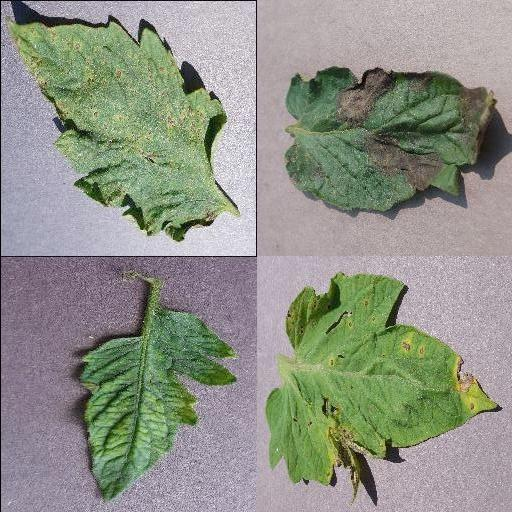Late Blight: (279, 64, 497, 216)
Mosaic Virus: (76, 309, 236, 503)
Septoria: (263, 269, 501, 487), (3, 17, 227, 242)
